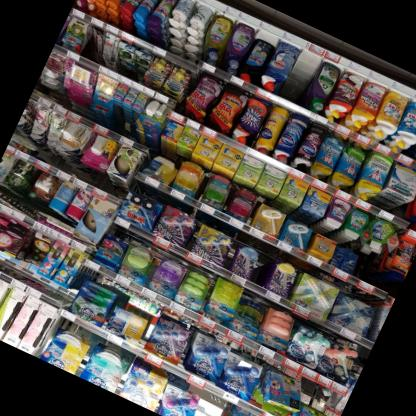empty_space: (282, 48, 324, 103)
